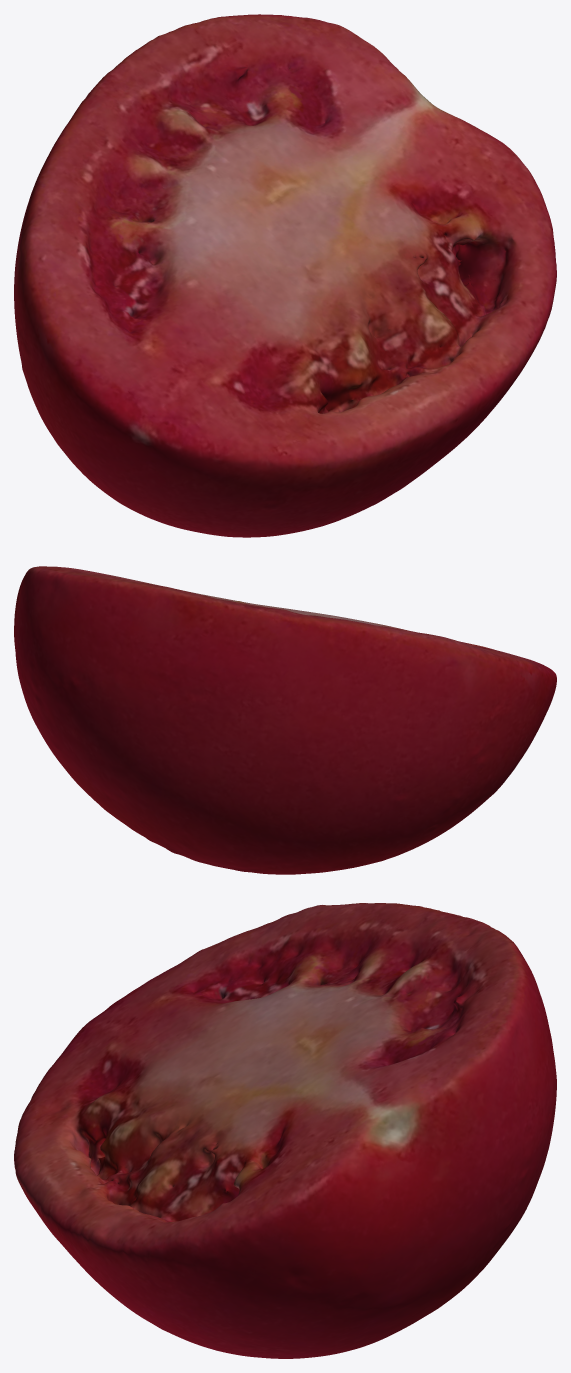
Rendered from tomato.glb.
3 renders of one model, top to bottom at view 1: azimuth 30°, elevation 25°; view 2: azimuth 150°, elevation 25°; view 3: azimuth 270°, elevation 25°, orthographic. The views are drawn at different scales.
Visible parts, largest first — view 1: Object_2, Object_3; view 2: Object_2, Object_3; view 3: Object_2, Object_3.
Part boxes in pixels (x1,y1,x2,y2): Object_2: (14,14,556,537); Object_3: (19,23,545,537); Object_2: (14,566,556,874); Object_3: (14,566,556,874); Object_2: (14,903,556,1358); Object_3: (77,904,556,1353).
Bounding box in the file's own units: 53.72 × 37.17 × 46.62.
1 material, 1 textured.
